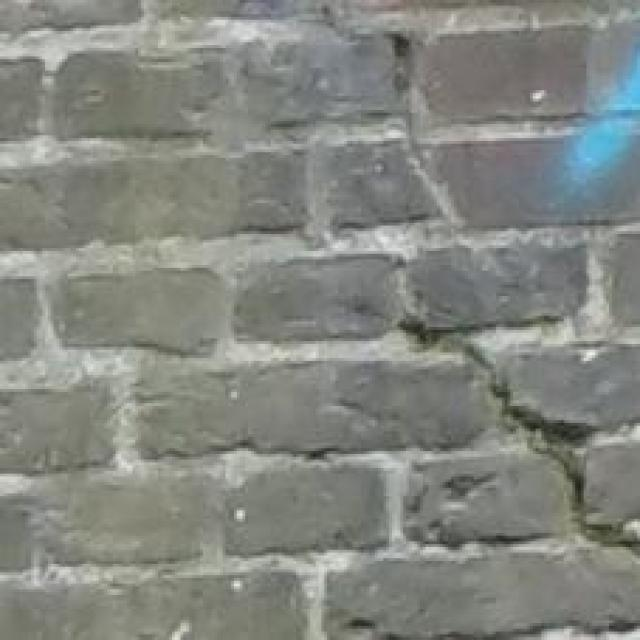Crack: (343, 19, 640, 586)
